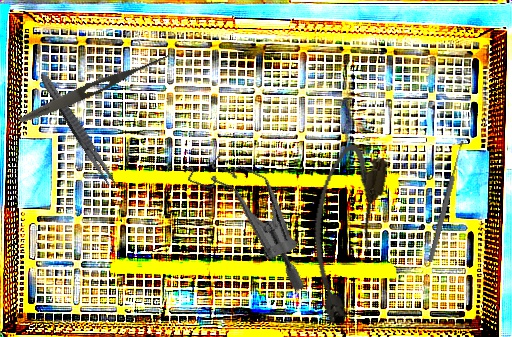Cannula: (293, 140, 392, 330)
Dressing Forceps: (17, 48, 171, 128), (35, 70, 123, 193)
Speculum: (156, 140, 342, 294)
Surgical Spoon: (426, 140, 467, 263)
